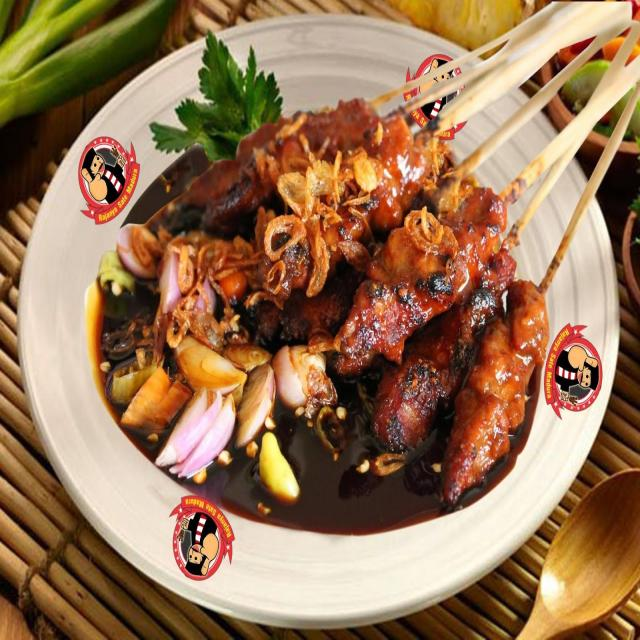Sate: (251, 14, 610, 539)
